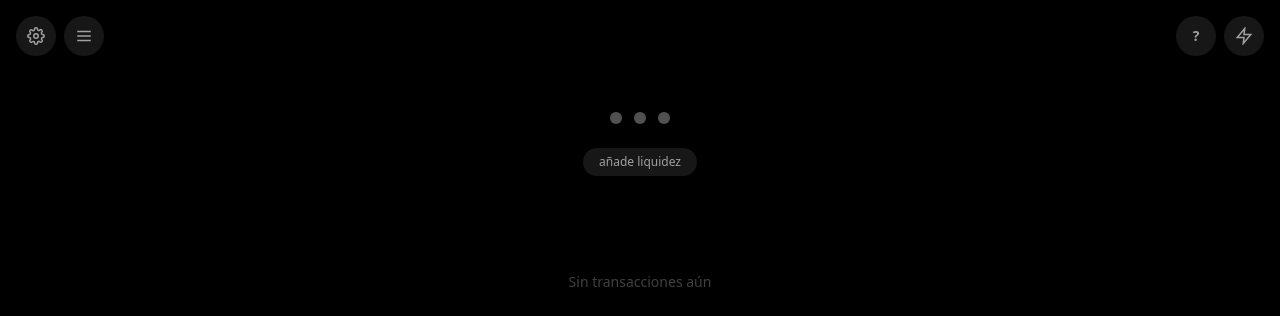
Test: Home › reveals balance when dots are clicked
Click the 5th button: (640, 118) [610,104,670,132]
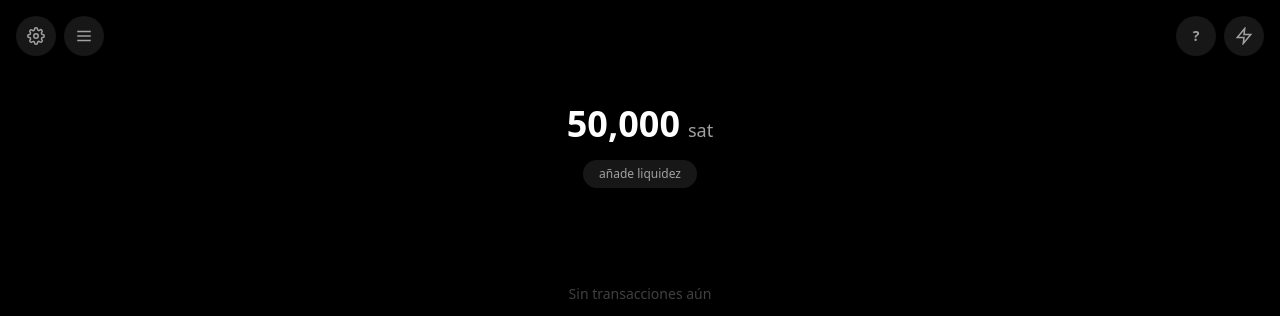
Expected: the text "50,000" is shown, [567,99,680,148]
Expected: the text "sat" is shown, [688,118,713,142]
